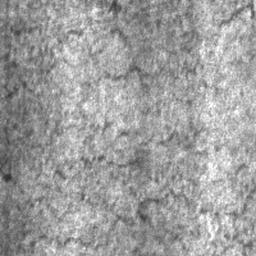Crazing: (2, 120, 256, 256), (0, 0, 150, 83), (157, 5, 248, 83), (230, 163, 248, 193), (140, 45, 153, 53)
